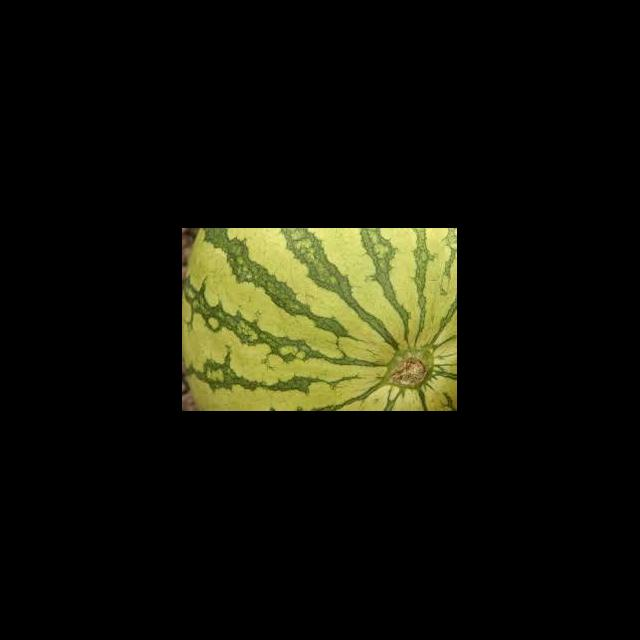watermelon: (183, 228, 457, 412)
